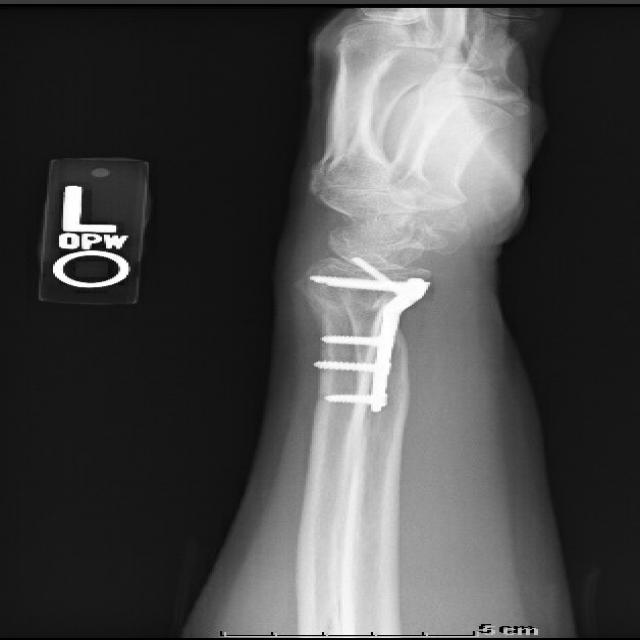x-ray: (306, 250, 458, 416)
